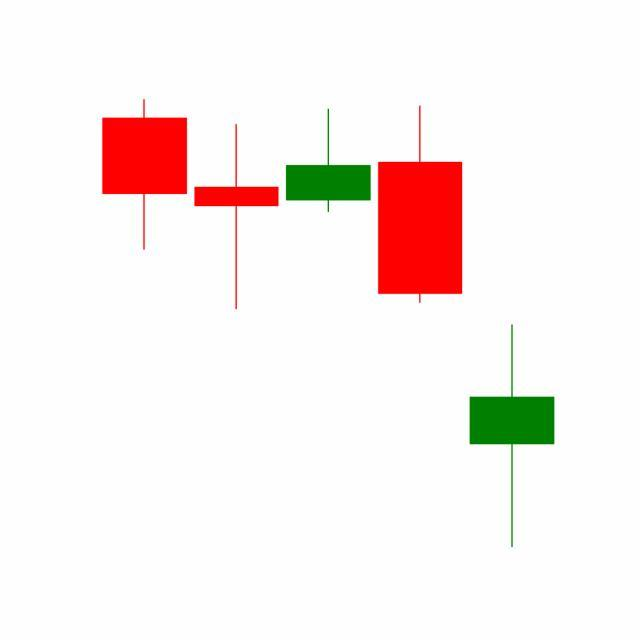Three Outside Up-Down: (280, 101, 555, 548)
